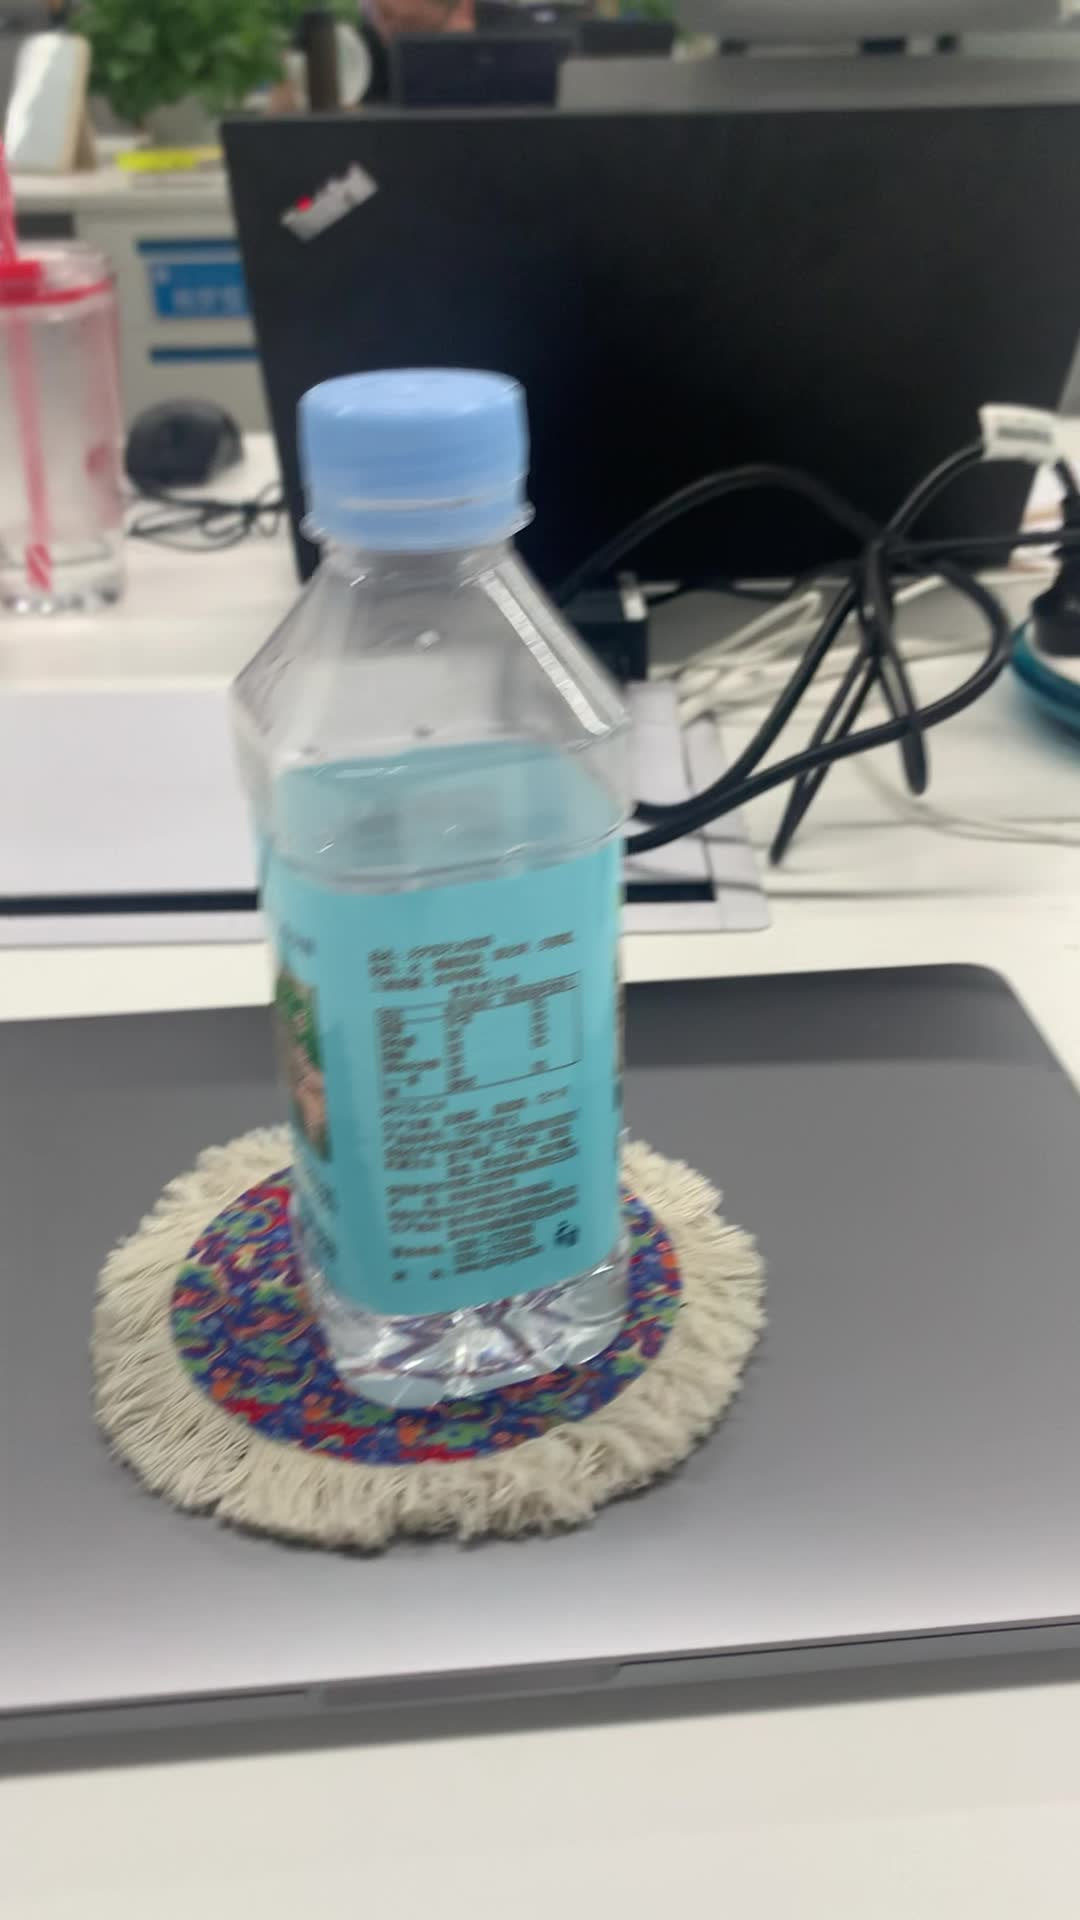水瓶: (216, 359, 644, 1410)
